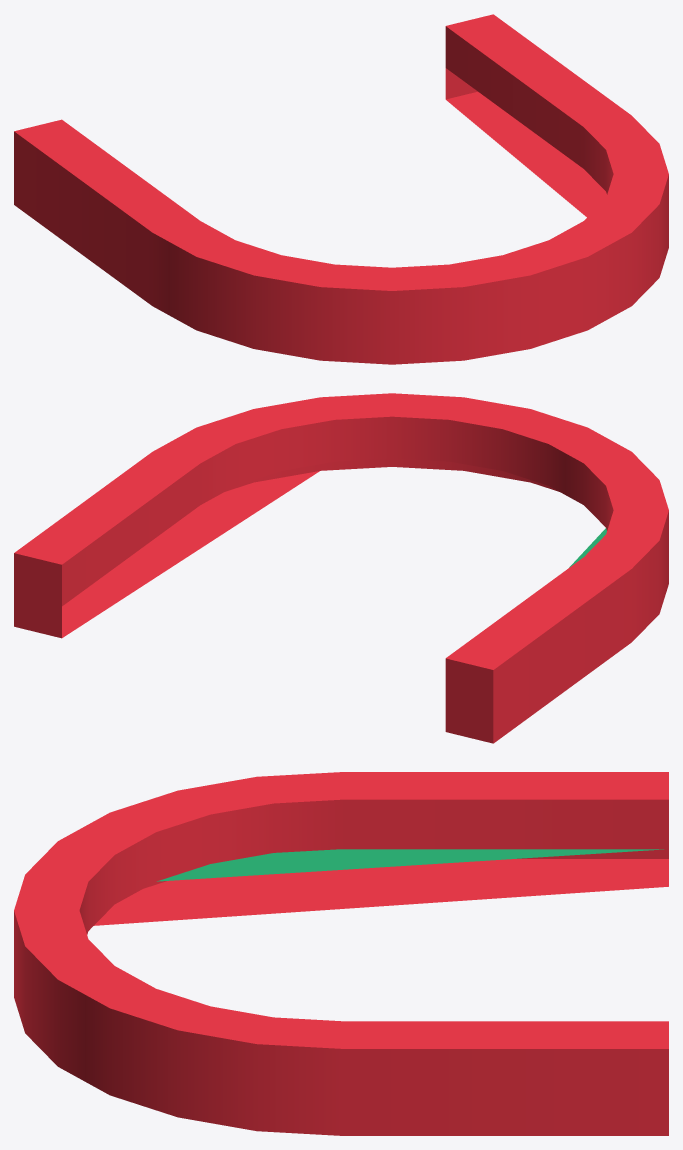
File: Paredes 3.FBX
The picture shows the model from 3 angles, top to bottom: view 1: azimuth 30°, elevation 25°; view 2: azimuth 150°, elevation 25°; view 3: azimuth 270°, elevation 25°; orthographic projection. The views are drawn at different scales.
Visible parts, largest first — view 1: holeRound; view 2: holeRound; view 3: holeRound.
Part boxes in pixels (x1,y1,x2,y2): holeRound: [14, 14, 668, 364]; holeRound: [14, 393, 668, 743]; holeRound: [14, 772, 668, 1135].
Bounding box in the file's own units: 99.99 × 14.67 × 99.99.
